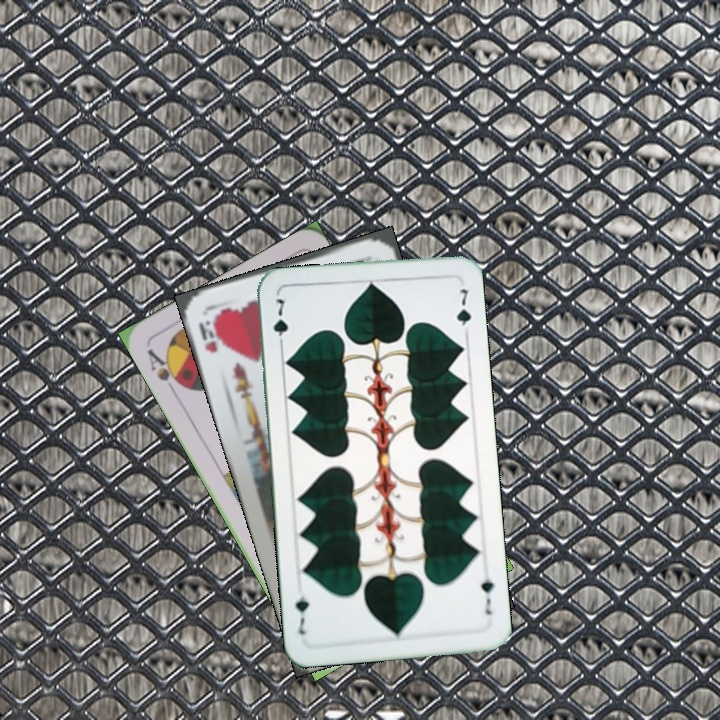G7: (269, 294, 291, 352), (476, 574, 496, 618)
HK: (194, 310, 226, 356)
SA: (142, 344, 188, 398)
